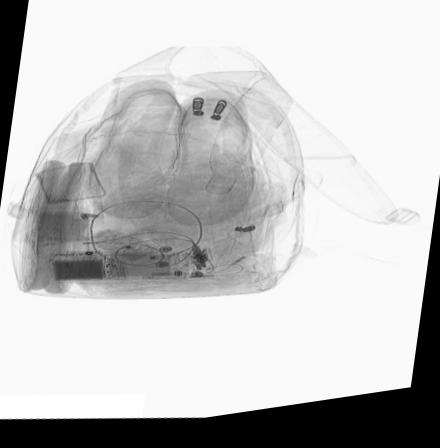Powerbank: (48, 253, 195, 286)
